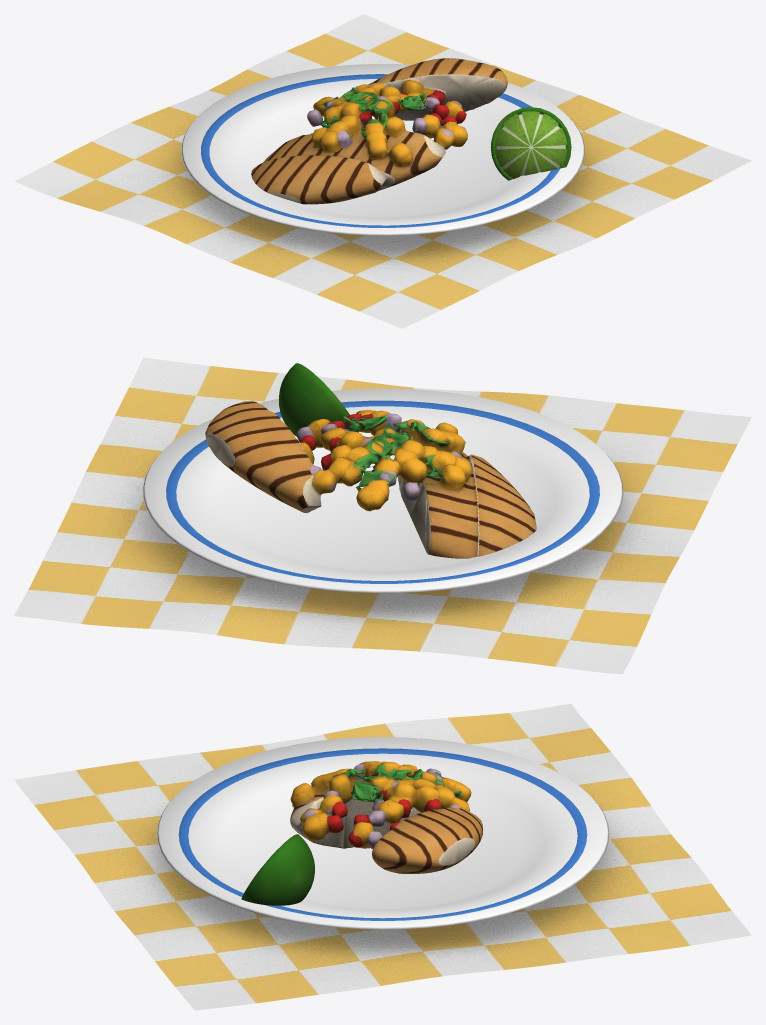
The model's file is chicken.glb.
3 renders of one model, top to bottom at view 1: azimuth 30°, elevation 25°; view 2: azimuth 150°, elevation 25°; view 3: azimuth 270°, elevation 25°, orthographic. The views are drawn at different scales.
Visible parts, largest first — view 1: chicken_cloth, plate, chicken_food, chicken_lime, plate_rim; view 2: chicken_cloth, plate, chicken_food, plate_rim, chicken_lime; view 3: chicken_cloth, plate, chicken_food, plate_rim, chicken_lime.
Boxes of the visible parts, left/top/right/bottom form: chicken_cloth: left=14, top=14, right=751, bottom=328; plate: left=181, top=64, right=584, bottom=235; chicken_food: left=251, top=58, right=507, bottom=204; chicken_lime: left=491, top=107, right=571, bottom=180; plate_rim: left=201, top=74, right=559, bottom=227; chicken_cloth: left=14, top=357, right=751, bottom=674; plate: left=142, top=388, right=623, bottom=592; chicken_food: left=205, top=401, right=536, bottom=558; plate_rim: left=166, top=400, right=599, bottom=583; chicken_lime: left=279, top=363, right=358, bottom=436; chicken_cloth: left=14, top=703, right=751, bottom=1010; plate: left=156, top=737, right=609, bottom=929; chicken_food: left=290, top=761, right=482, bottom=873; plate_rim: left=178, top=748, right=587, bottom=920; chicken_lime: left=241, top=834, right=314, bottom=905.
Size of the model in its own units: 5.54 by 0.7665 by 5.54.
5 materials, 3 textured.
